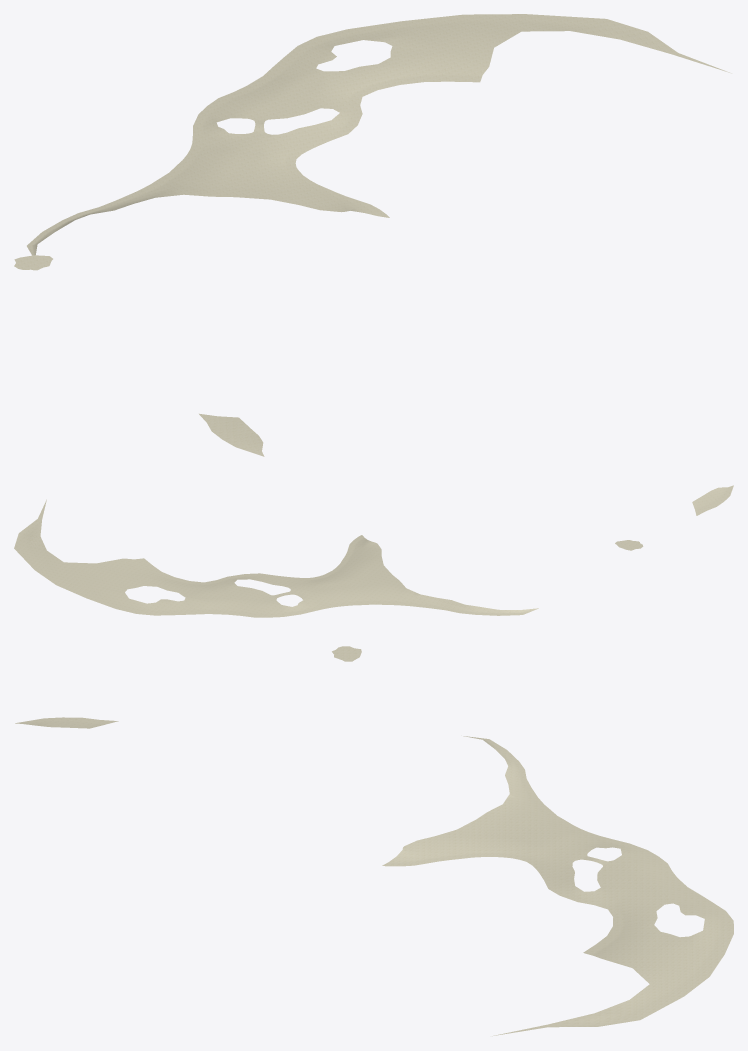
The model's file is FP_jog_island.md.028.obj.
3 views of the same model, one above another, from view 1: azimuth 30°, elevation 25°; view 2: azimuth 150°, elevation 25°; view 3: azimuth 270°, elevation 25° (orthographic). The views are drawn at different scales.
Parts seen in each view (by area): view 1: FP_jog_island.mo.028; view 2: FP_jog_island.mo.028; view 3: FP_jog_island.mo.028.
Boxes of the visible parts, bbox=[...] form: FP_jog_island.mo.028: bbox=[14, 14, 731, 456]; FP_jog_island.mo.028: bbox=[14, 485, 733, 617]; FP_jog_island.mo.028: bbox=[15, 646, 733, 1036].
Bounding box in the file's own units: 164 × 12.19 × 148.
1 material, 1 textured.
